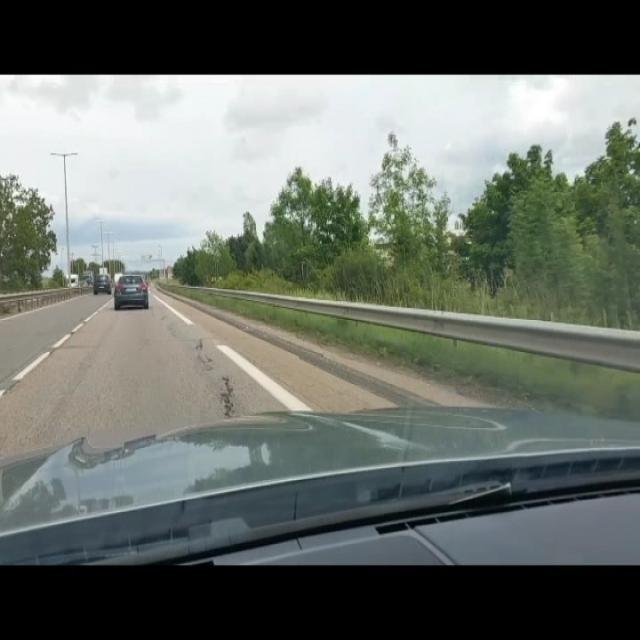direction: (139, 250, 154, 264)
